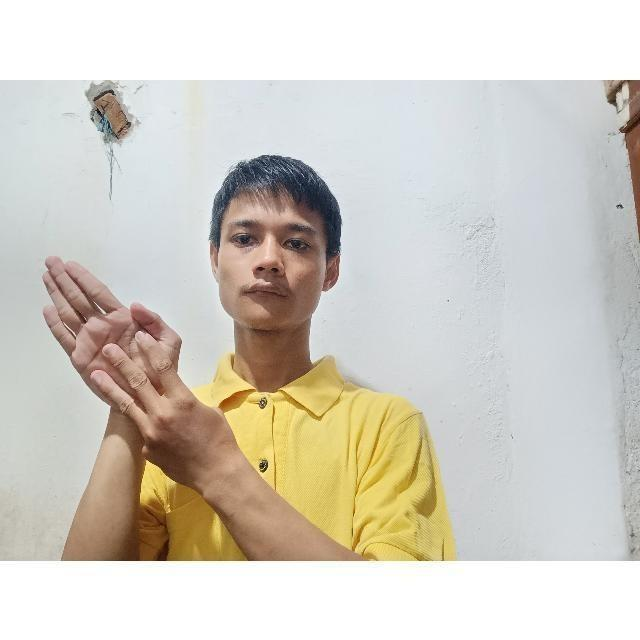M: (24, 244, 206, 438)
